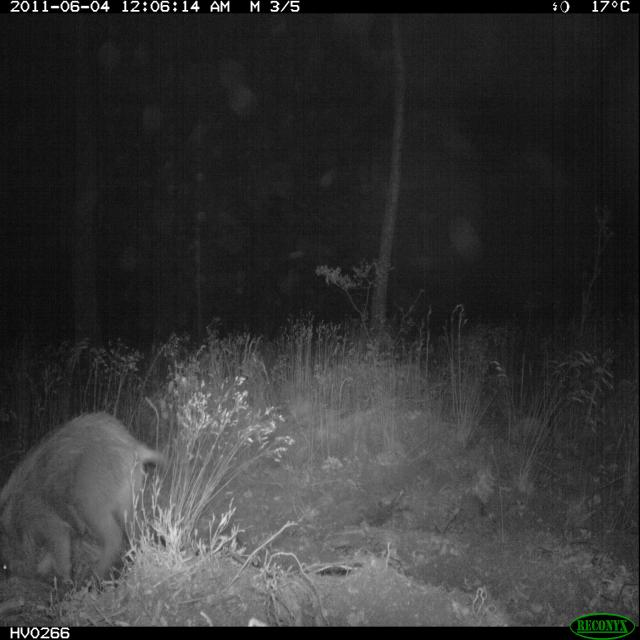boar: (0, 398, 158, 606)
